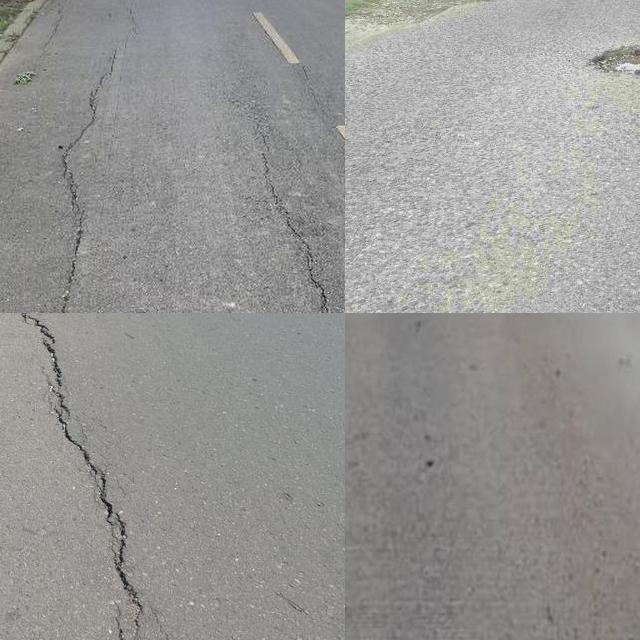Lubang: (591, 43, 640, 77)
Memanjang: (2, 313, 158, 640), (33, 19, 155, 313), (234, 135, 345, 313)
